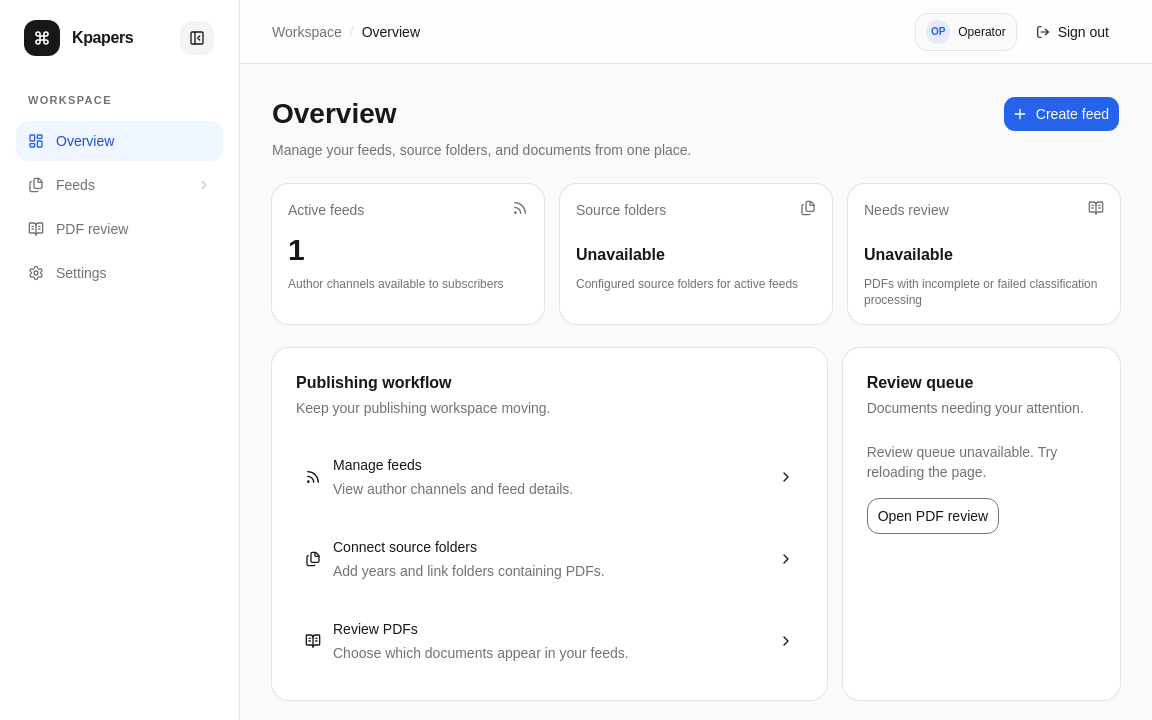
feed management workflows › falls back after a Clipboard API rejection and reports failure when both methods fail
The width and height of the screenshot is (1152, 720).
Expected: the heading "Overview" is shown, [272, 98, 396, 129]
Click the button "Feeds". click: coordinates (120, 184)
box: [16, 164, 223, 204]
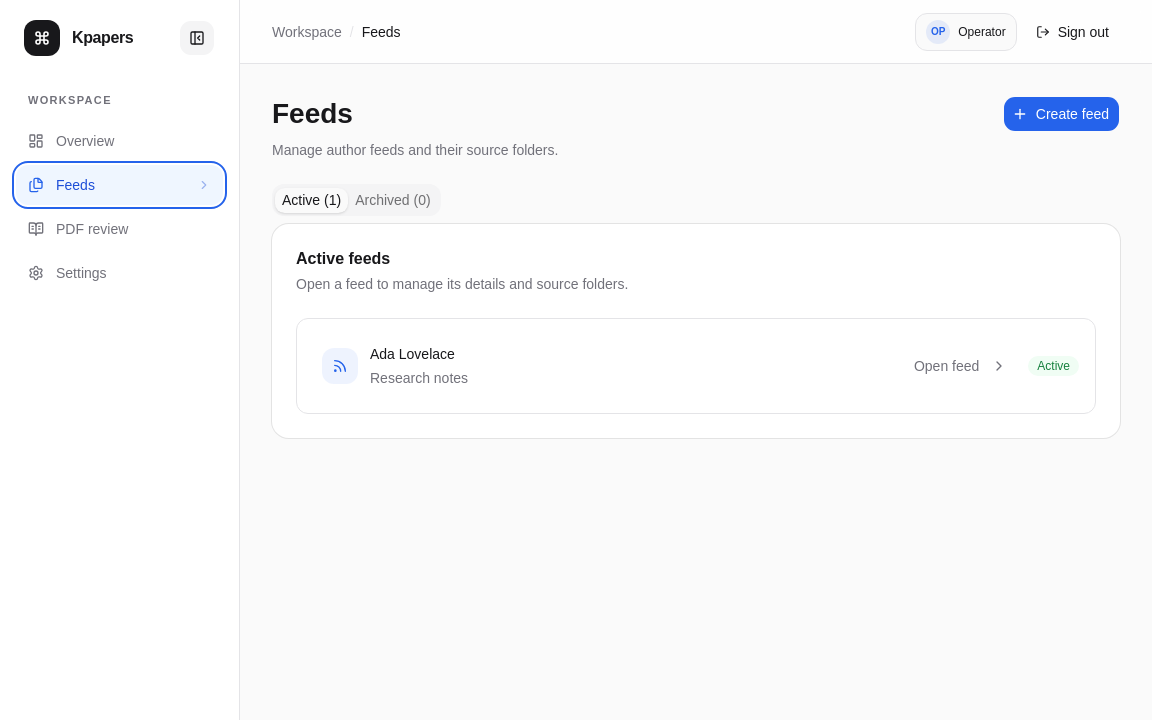
Expected: the heading "Feeds" is shown, [272, 98, 353, 129]
Click the button "Ada Lovelace Research notes Open feed". click: coordinates (340, 366)
box: [313, 335, 1016, 397]
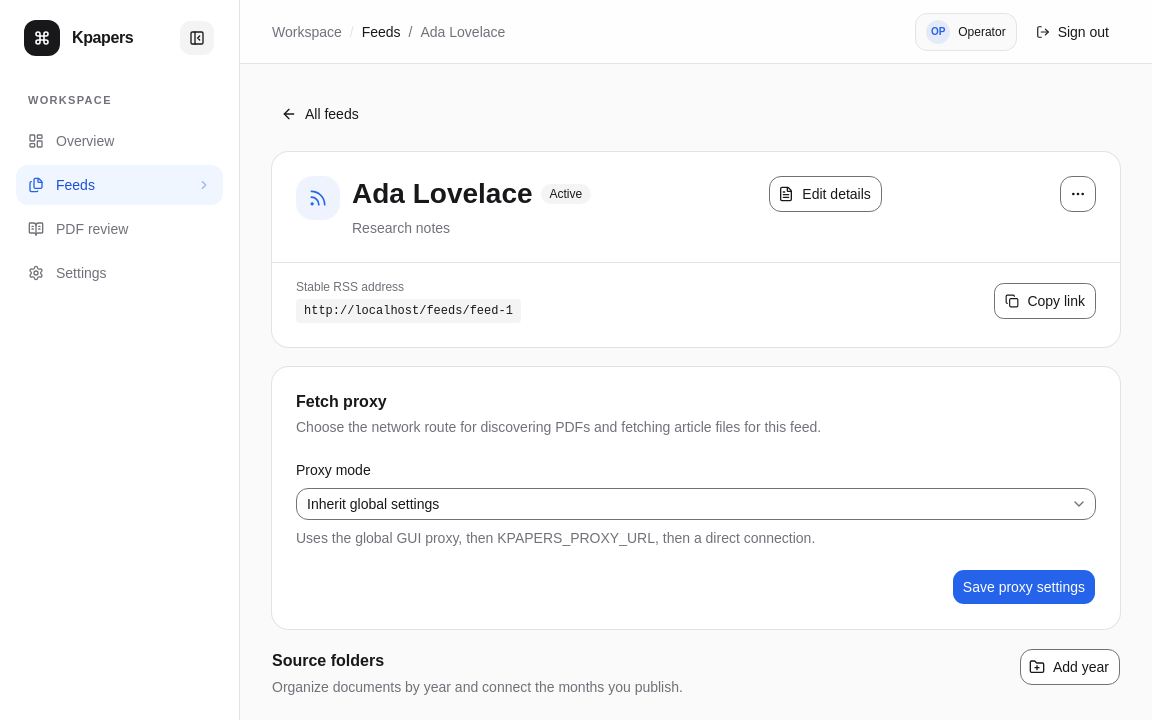
Click the button with aria-label "Copy RSS address". click: coordinates (1045, 301)
box: [994, 283, 1096, 319]
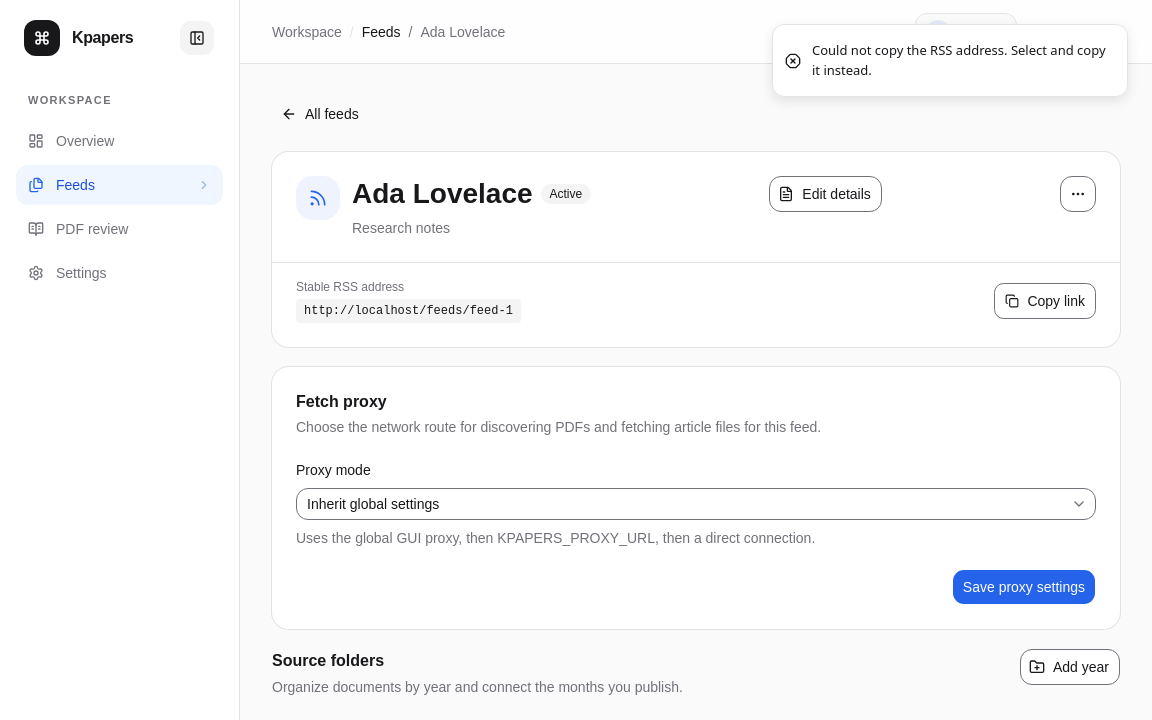
Expected: the button with aria-label "Copy RSS address" reads "Copy link", [994, 283, 1096, 319]
Expected: the text "Could not copy the RSS address. Select and copy it instead." is shown, [812, 41, 1111, 80]
